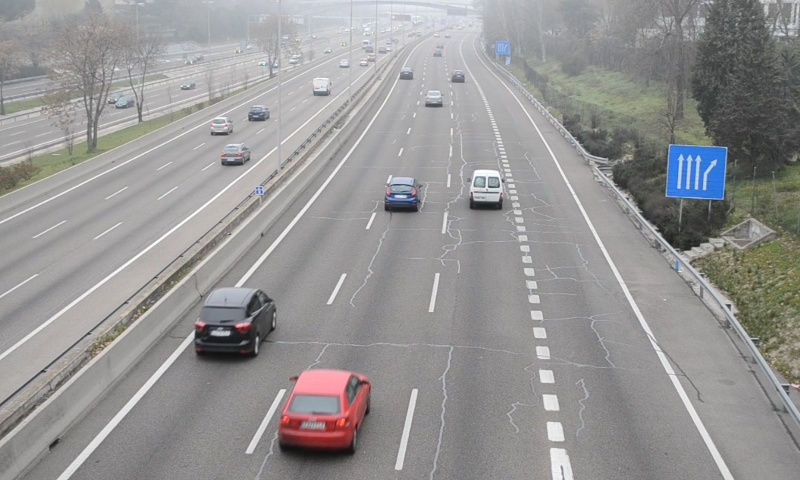car: (278, 369, 368, 451), (194, 288, 276, 355), (385, 176, 420, 211), (424, 89, 443, 106), (450, 69, 465, 84)
van: (469, 169, 502, 208)
